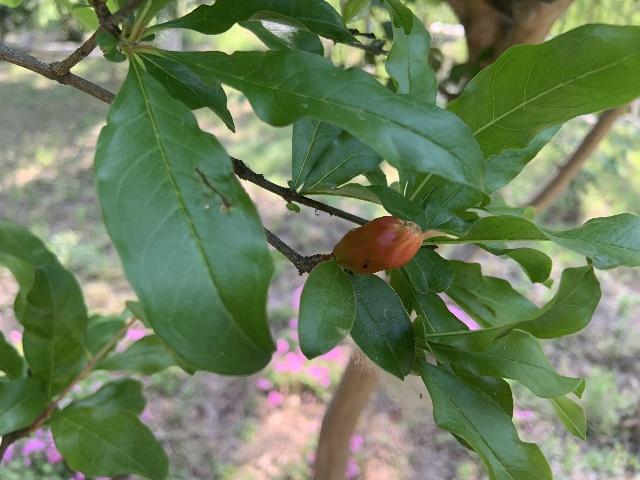bud: (333, 216, 422, 273)
